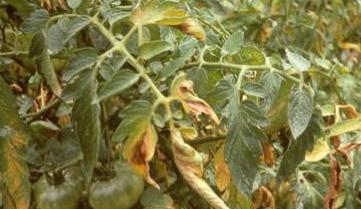Tomato Early blight leaf: (166, 122, 236, 209), (121, 97, 160, 187), (133, 0, 212, 43), (169, 76, 227, 123), (0, 127, 33, 209), (28, 26, 63, 98)
Tomato leaf: (65, 74, 103, 177), (223, 99, 262, 194), (288, 84, 311, 140)
